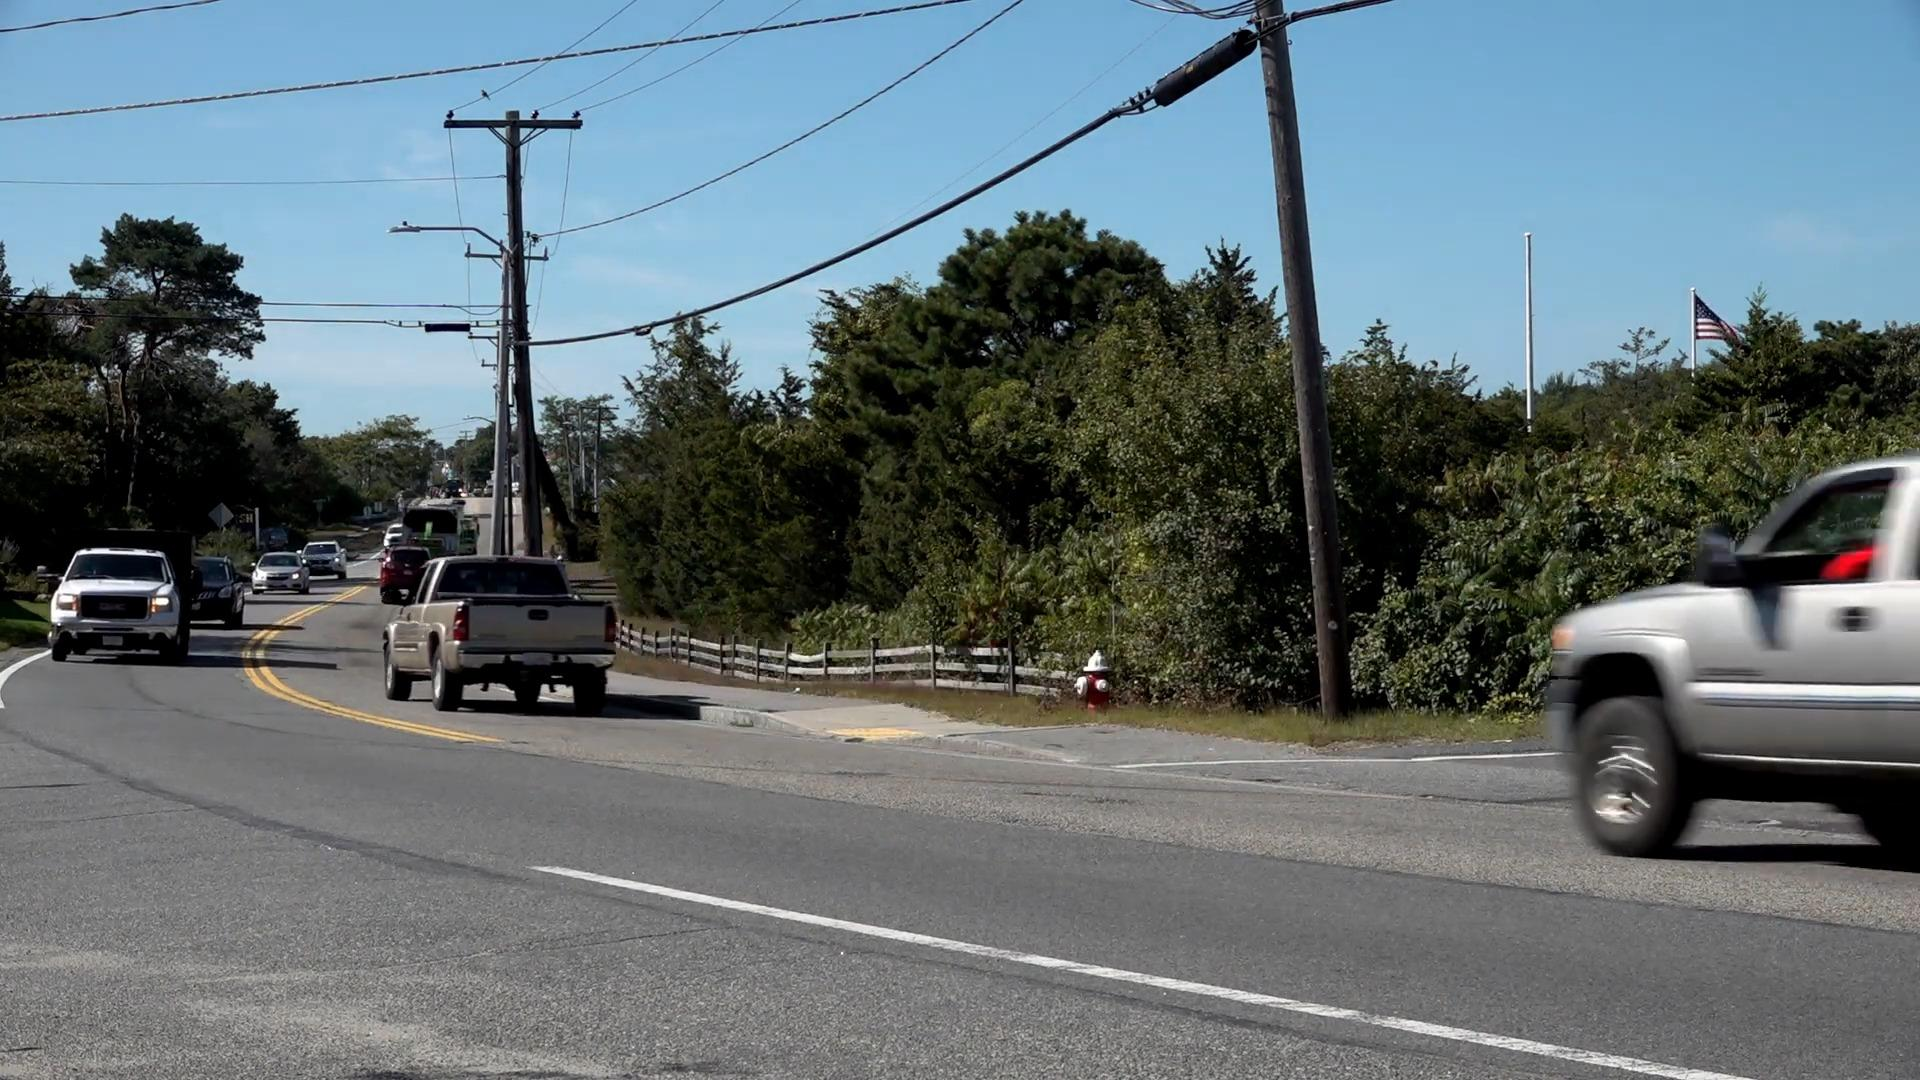pickup: (1544, 448, 1920, 856), (380, 558, 620, 713), (55, 545, 185, 658)
sedans: (253, 554, 305, 592)
suv: (198, 556, 248, 624)
